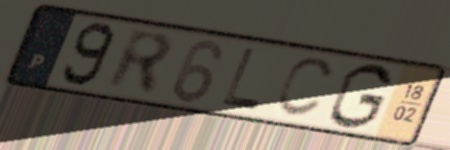6: (169, 37, 225, 105)
9: (61, 21, 119, 88)
C: (271, 56, 339, 121)
G: (326, 61, 396, 131)
L: (219, 45, 265, 113)
R: (103, 26, 177, 100)
